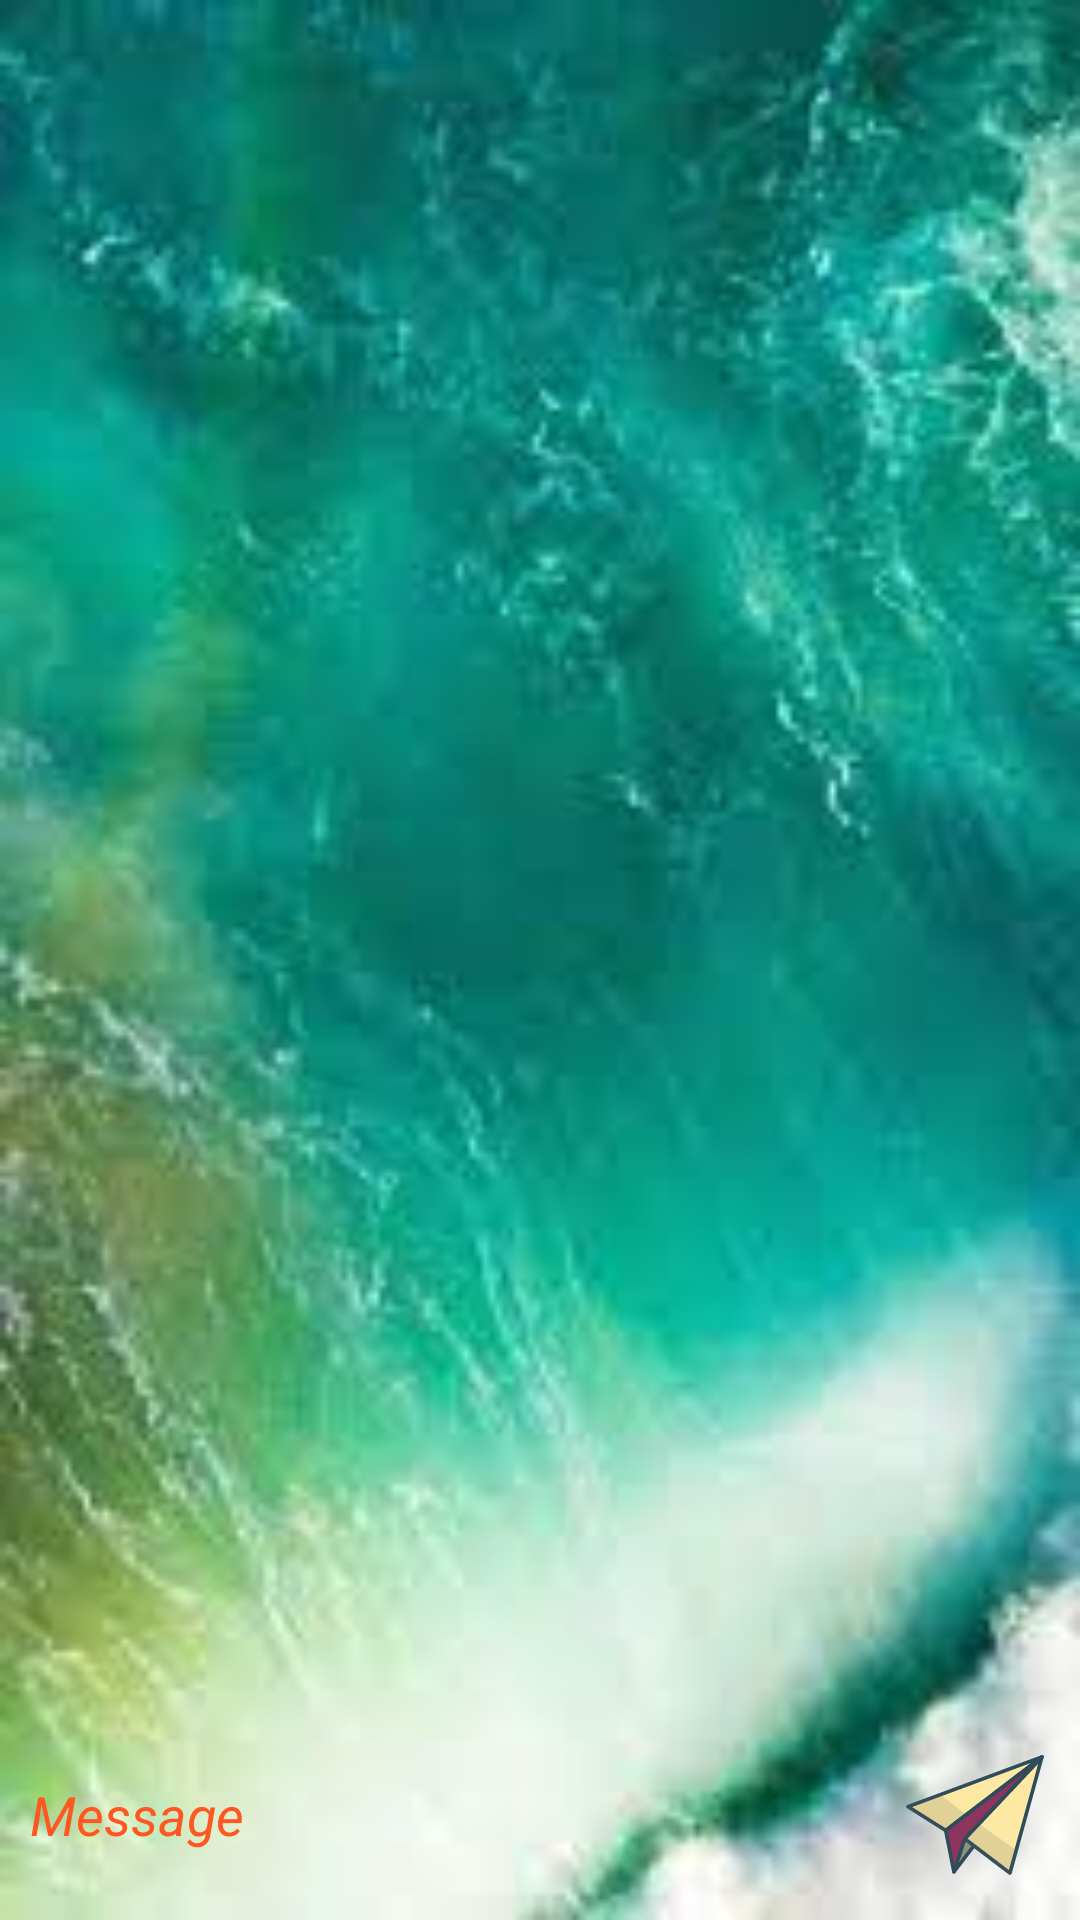

Where to tap for icons on this 1080*1920 app screen, as (x,y):
send: (975,1815)
